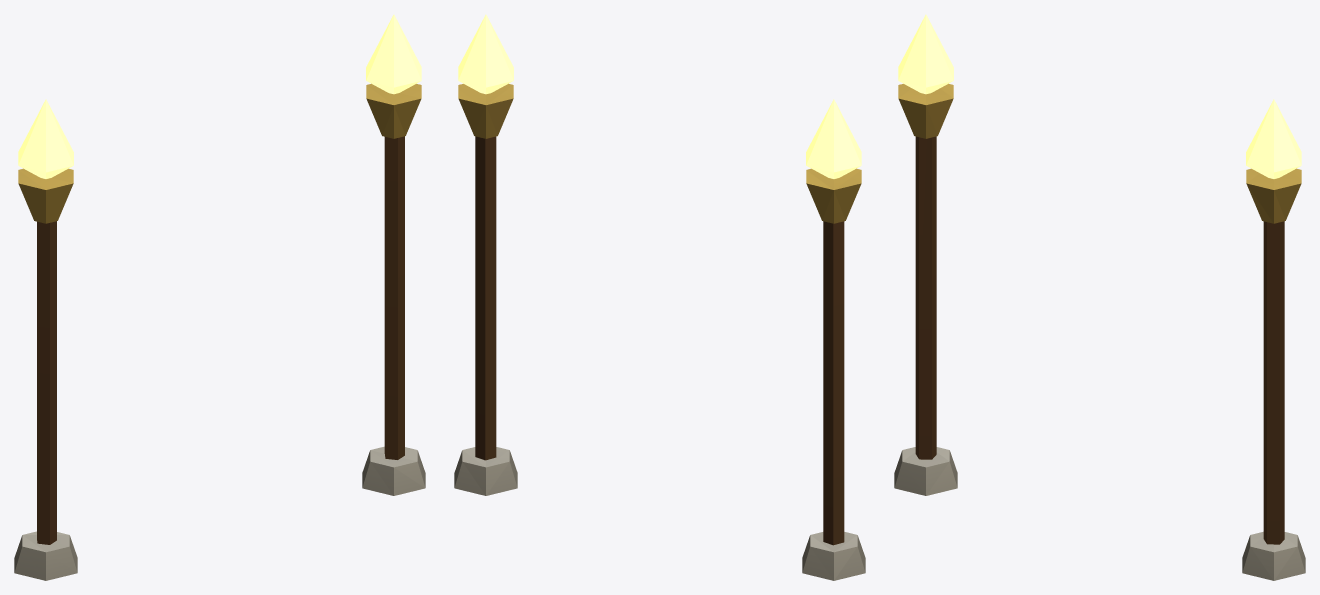
File: torches.glb
The picture shows the model from 3 angles, left to right: view 1: azimuth 30°, elevation 25°; view 2: azimuth 150°, elevation 25°; view 3: azimuth 330°, elevation 25°; orthographic projection.
Visible parts, largest first — view 1: base; view 2: base; view 3: base.
Part boxes in pixels (bbox=[...]): base: bbox=[14, 14, 425, 580]; base: bbox=[454, 14, 865, 580]; base: bbox=[894, 14, 1305, 580].
Size of the model in its own units: 0.52 by 0.564 by 0.0693.
